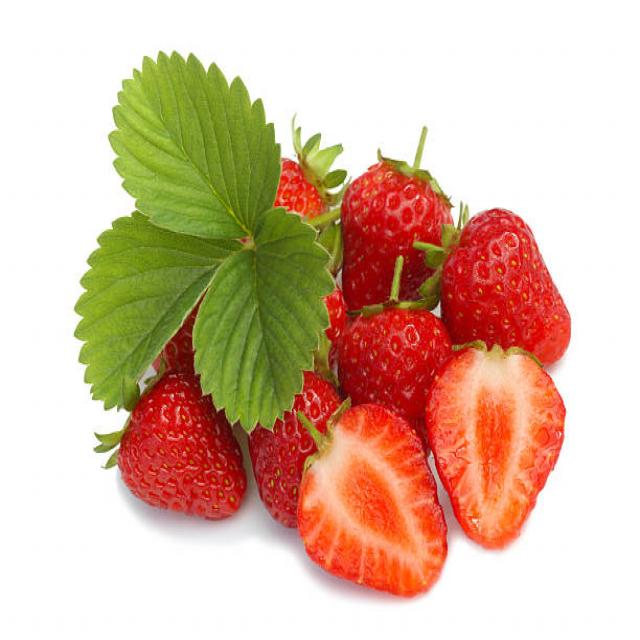Berries strawberries/blueberries: (448, 344, 567, 546), (300, 435, 446, 597), (442, 205, 586, 339), (338, 150, 446, 306), (117, 402, 212, 524)
